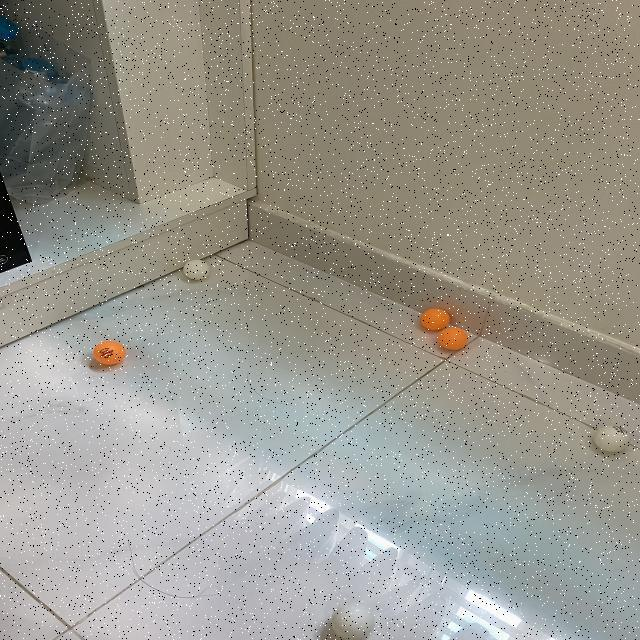ping-pong-ball: (332, 605, 376, 640), (595, 424, 631, 454), (437, 326, 469, 352), (420, 307, 450, 331), (94, 341, 126, 363), (184, 259, 210, 281)
